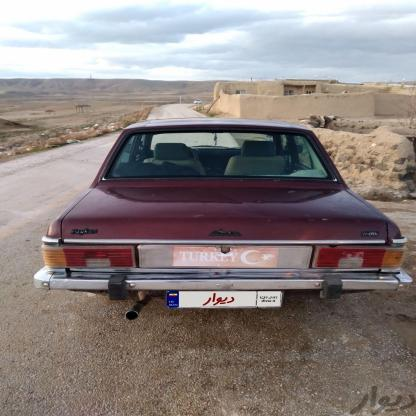Car: (44, 113, 406, 318)
